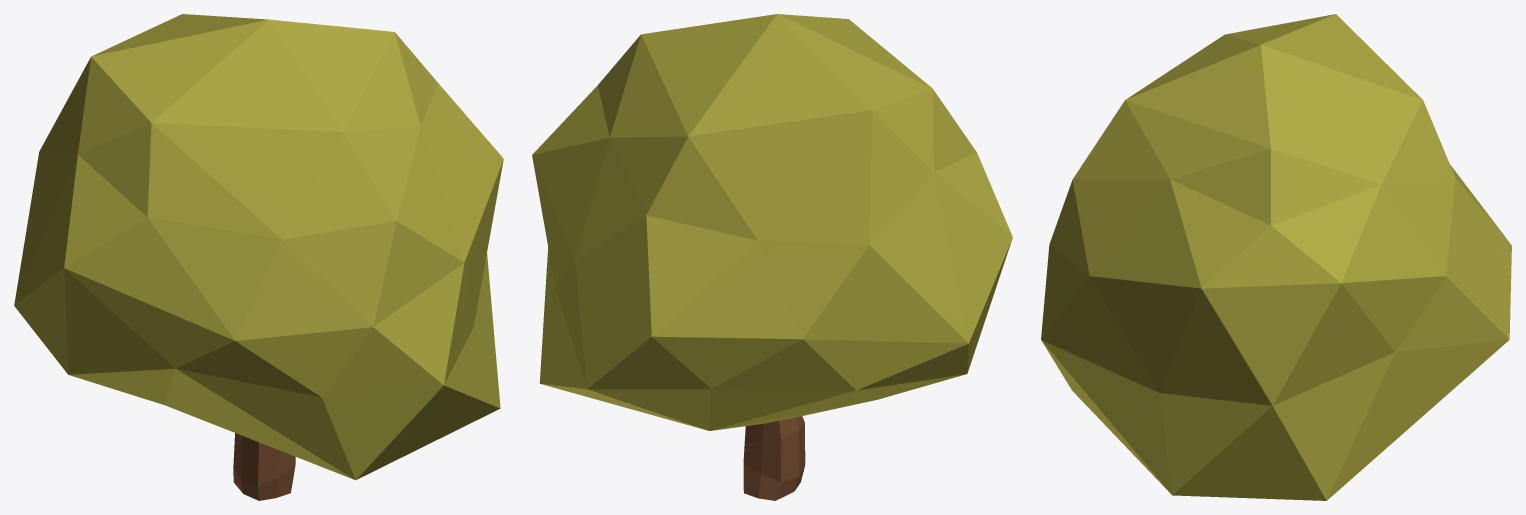
Rendered from Tree_61_Yellow.fbx.
3 renders of one model, left to right at view 1: azimuth 30°, elevation 25°; view 2: azimuth 150°, elevation 25°; view 3: azimuth 270°, elevation 25°, orthographic. The views are drawn at different scales.
Visible parts, largest first — view 1: Tree_61_Yellow_Part_1, Tree_61_Yellow_Part_2; view 2: Tree_61_Yellow_Part_1, Tree_61_Yellow_Part_2; view 3: Tree_61_Yellow_Part_1.
Boxes of the visible parts, x1=… form: Tree_61_Yellow_Part_1: x1=14, y1=14, x2=503, y2=480; Tree_61_Yellow_Part_2: x1=233, y1=433, x2=295, y2=500; Tree_61_Yellow_Part_1: x1=532, y1=14, x2=1012, y2=430; Tree_61_Yellow_Part_2: x1=743, y1=416, x2=805, y2=500; Tree_61_Yellow_Part_1: x1=1041, y1=14, x2=1511, y2=500.
Bounding box in the file's own units: 760 × 766 × 750.
